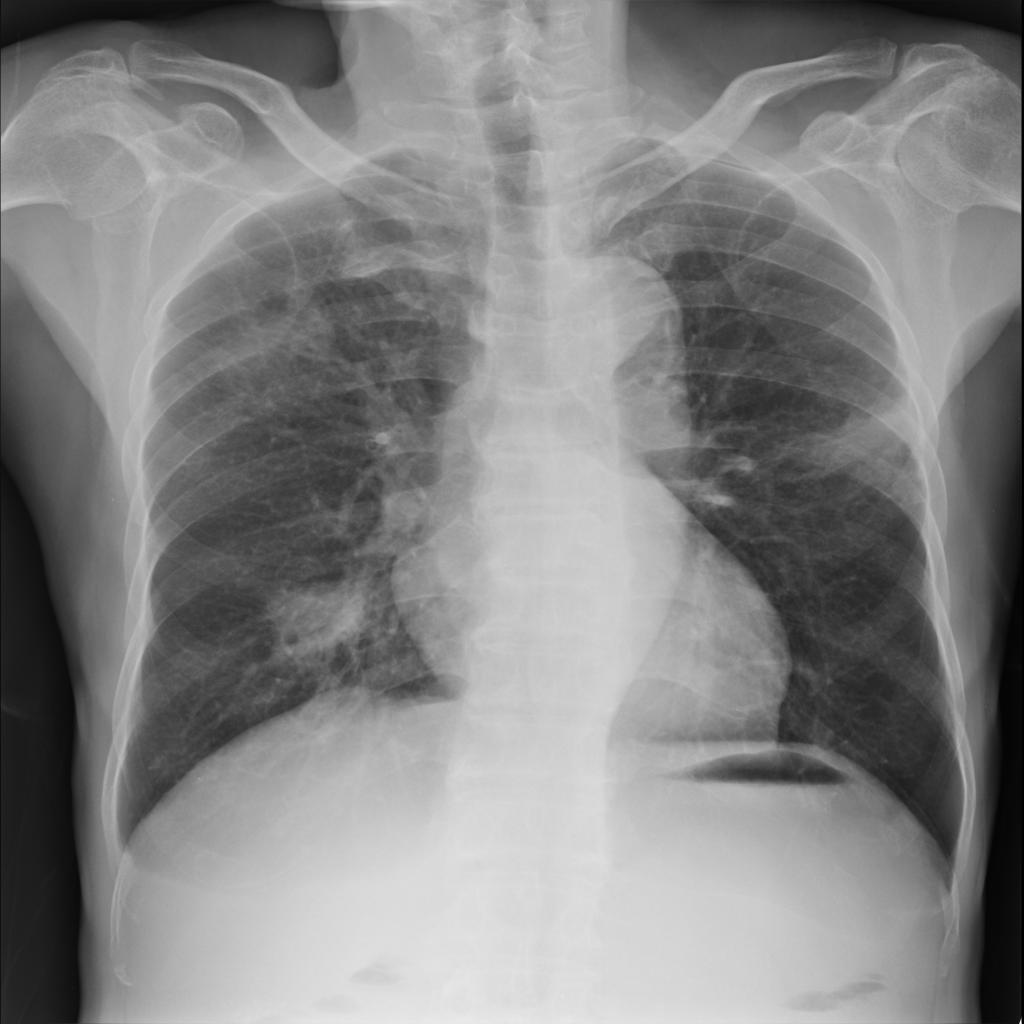Nodule: (269, 579, 363, 659)
